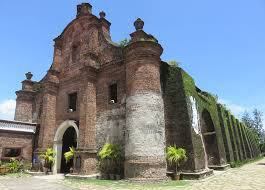santa_maria_church_santa_maria_ilocos_sur: (9, 1, 168, 183)
unfinished_paint: (94, 91, 167, 162)
water_damage_or_mold: (182, 73, 199, 94), (210, 97, 220, 120), (193, 135, 202, 156), (200, 96, 209, 110)
